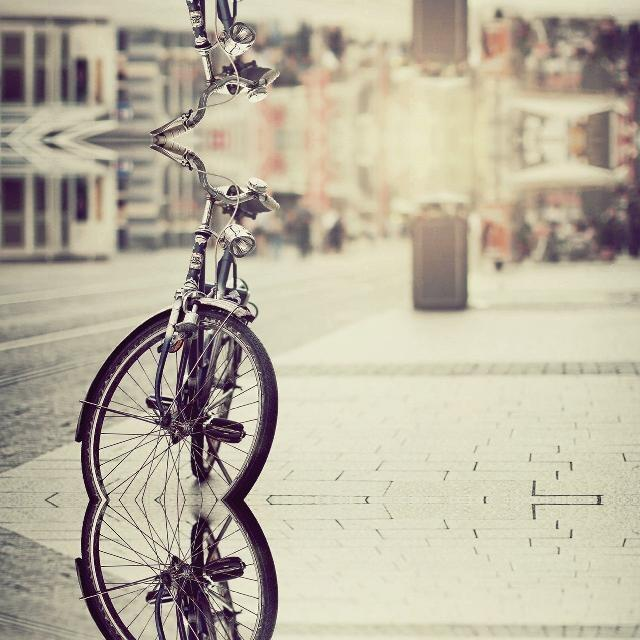obstacle: (80, 144, 294, 500), (79, 500, 294, 640), (79, 0, 294, 136)
